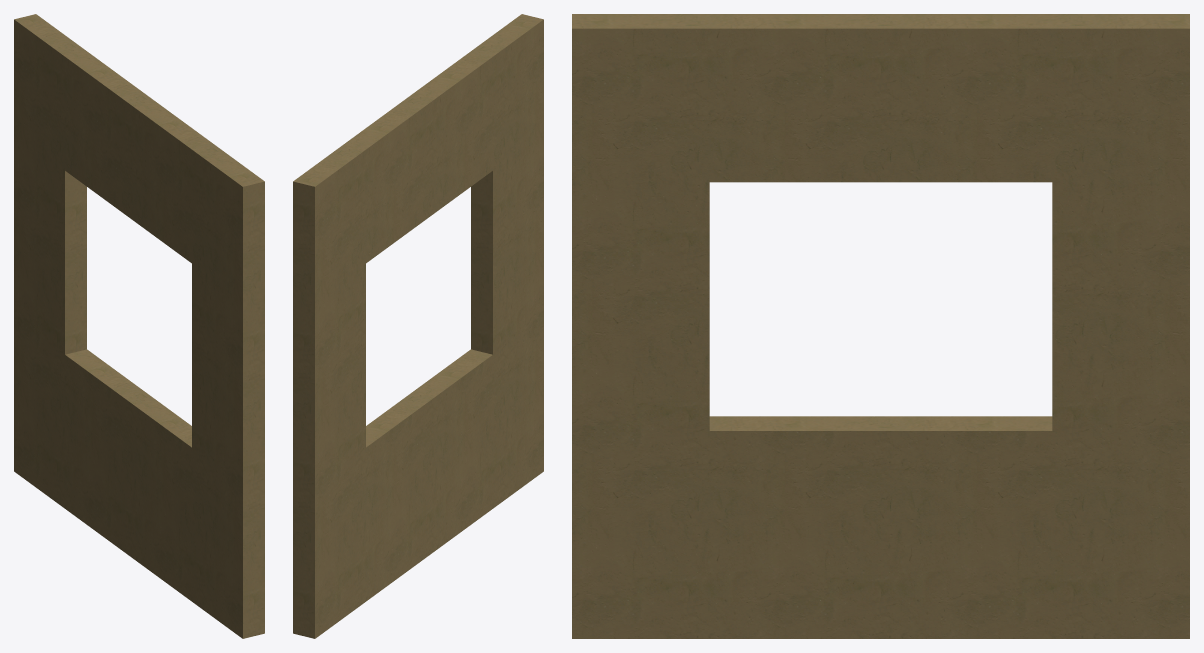
The model's file is soupwindwall018.glb.
3 renders of one model, left to right at view 1: azimuth 30°, elevation 25°; view 2: azimuth 150°, elevation 25°; view 3: azimuth 270°, elevation 25°, orthographic. The views are drawn at different scales.
Parts seen in each view (by area): view 1: soupwindwall018_high_1; view 2: soupwindwall018_high_1; view 3: soupwindwall018_high_1.
Part boxes in pixels (<box>): soupwindwall018_high_1: <box>14,14,264,638</box>; soupwindwall018_high_1: <box>293,14,543,638</box>; soupwindwall018_high_1: <box>572,14,1189,638</box>.
Size of the model in its own units: 0.1504 by 2.95 by 2.7.
1 material, 1 textured.
